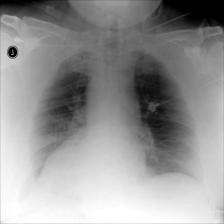normal: (23, 45, 208, 193)
